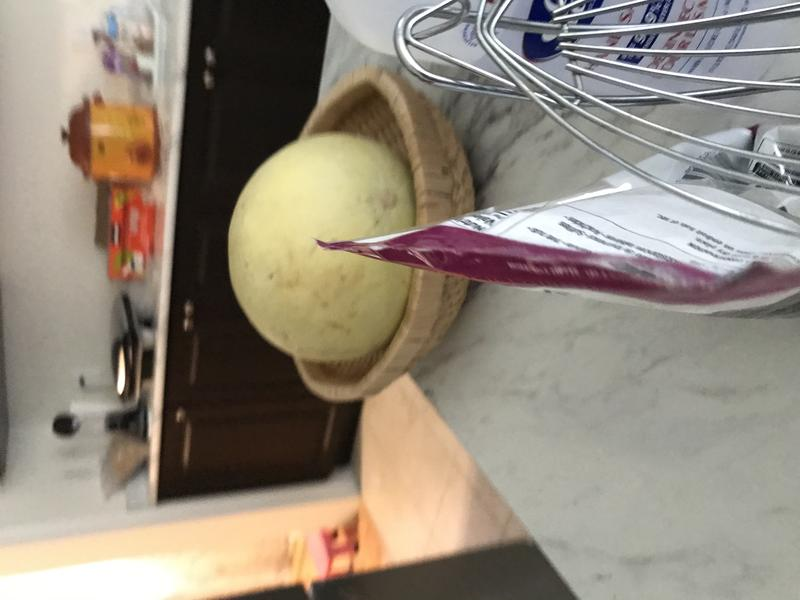honeydew: (217, 127, 431, 373)
